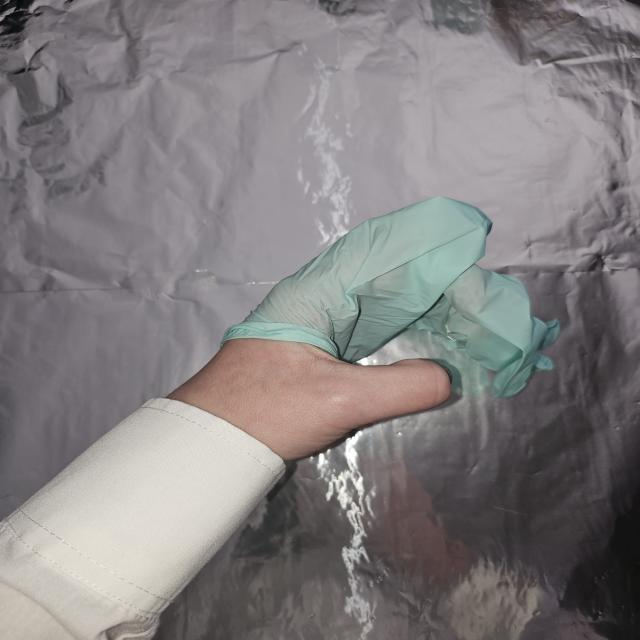glove_partial: (162, 195, 560, 471)
